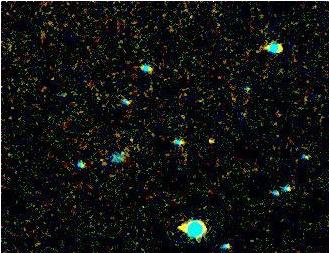star: (196, 124, 226, 154)
